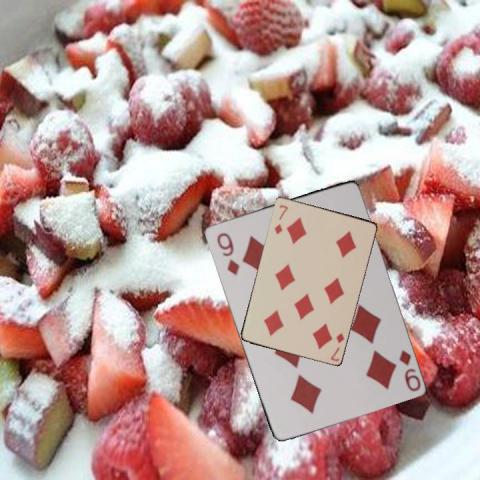7d: (271, 202, 290, 236), (328, 329, 346, 363)
9d: (213, 229, 241, 277), (396, 346, 422, 393)
